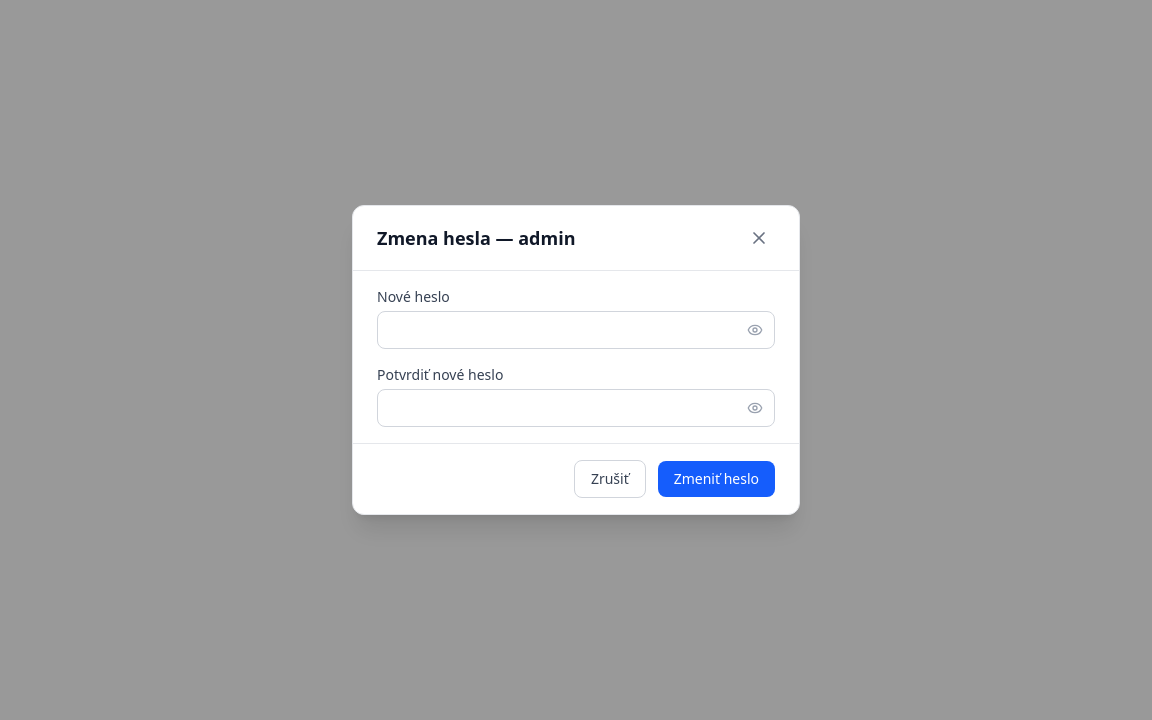
Test: ChangePasswordDialog — Admin mode › shows validation error for short password
This screenshot has width=1152, height=720.
Type "123" into the 1st password field at (576, 330), box [377,311,775,349]
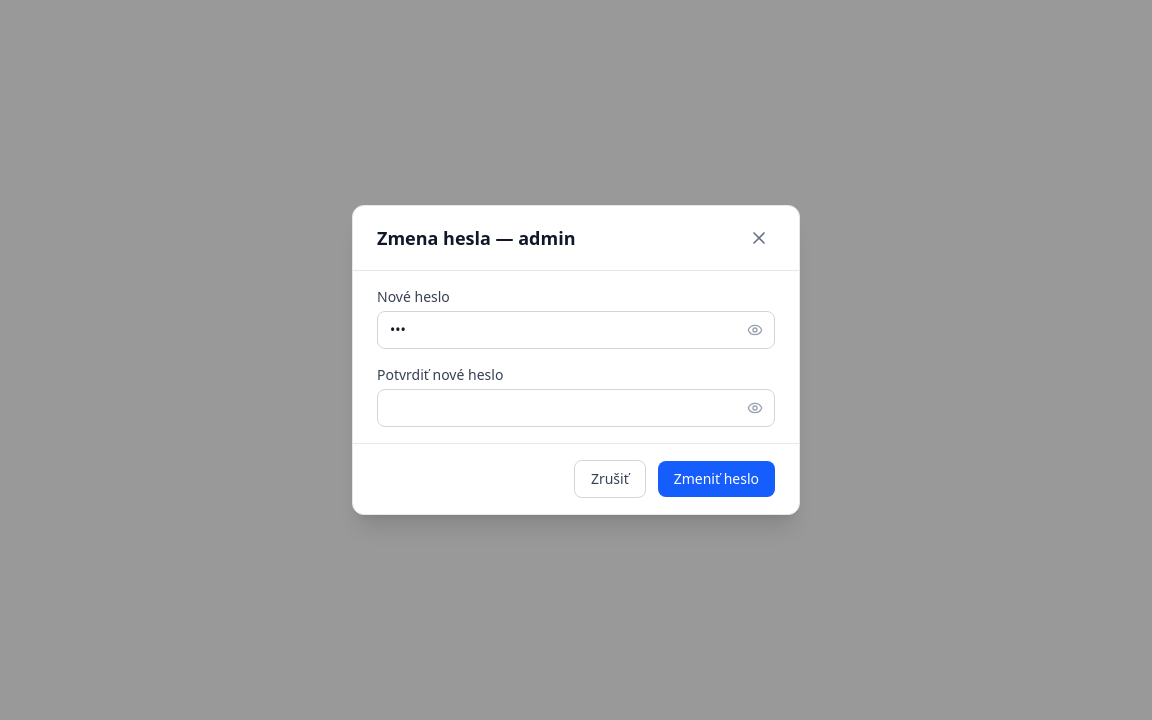
Type "123" into the password field below "Potvrdiť nové heslo" at (576, 408), box [377,389,775,427]
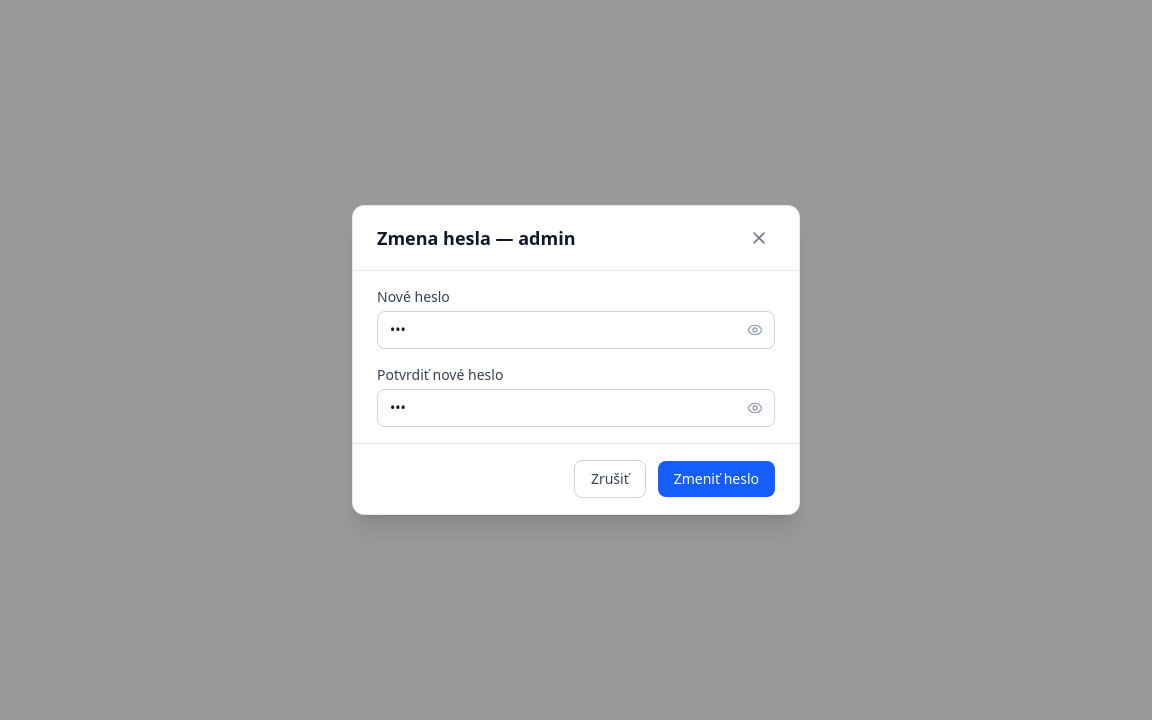
Click the button "Zmeniť heslo" at (716, 479), box [658,461,775,497]
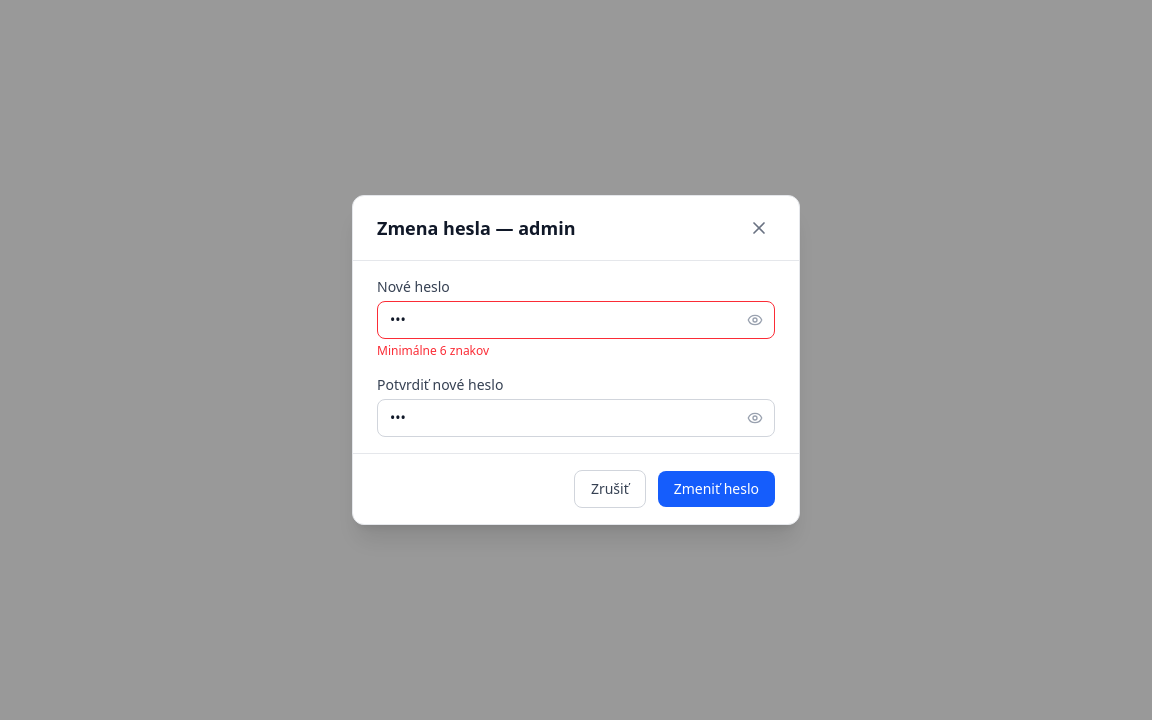
Now the text "Minimálne 6 znakov" is shown, box [377,342,489,359]
